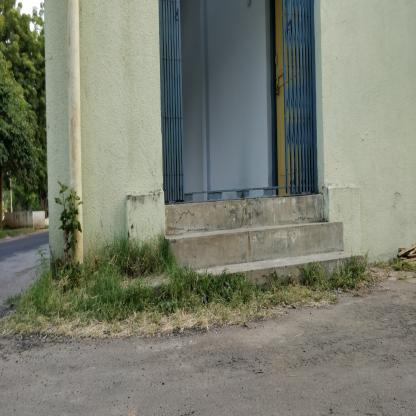stairs: (182, 204, 328, 311)
